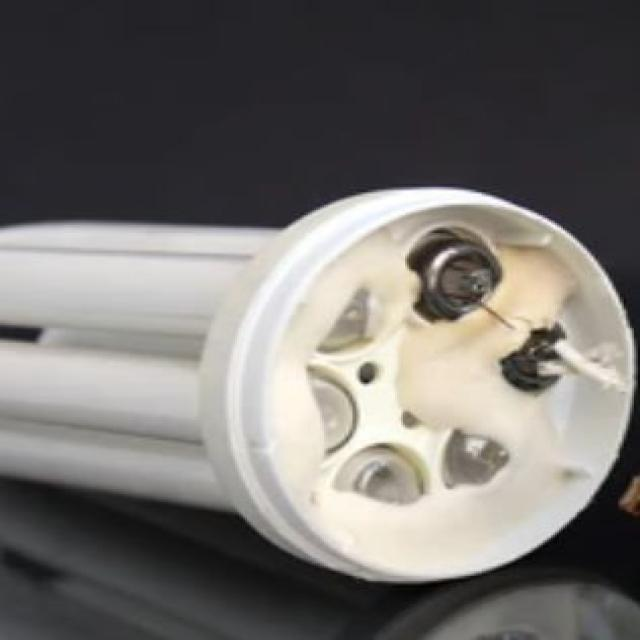electronic: (0, 182, 638, 586), (352, 571, 638, 638)
